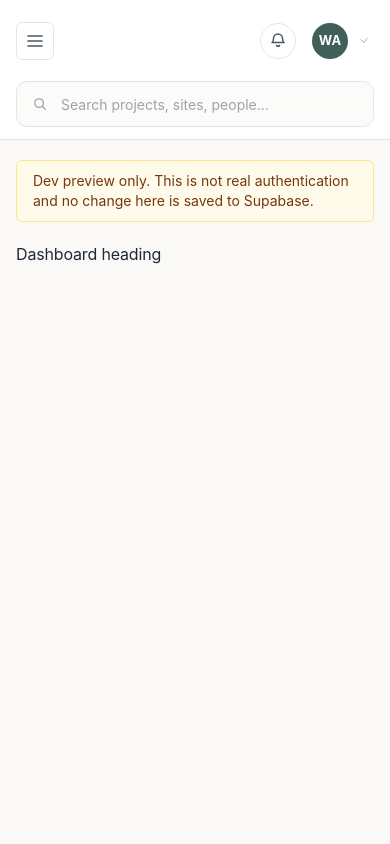
Test: Operating-model mobile drawer › expands and collapses a group in place without closing the drawer
The image size is (390, 844).
What coordinates should you click on to do the following:
click the button named "Open navigation menu"
I would click on:
 (35, 40)
Its box is top-left (16, 22), bottom-right (54, 60).
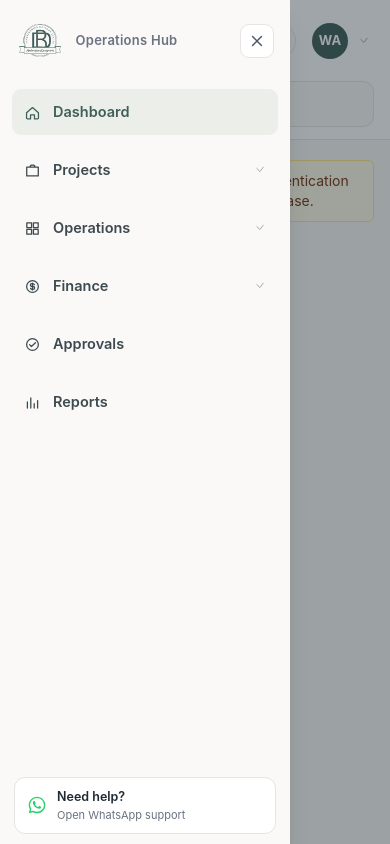
What coordinates should you click on to do the following:
click the button "Operations"
I would click on:
 (92, 228)
Its box is top-left (12, 205), bottom-right (278, 251).
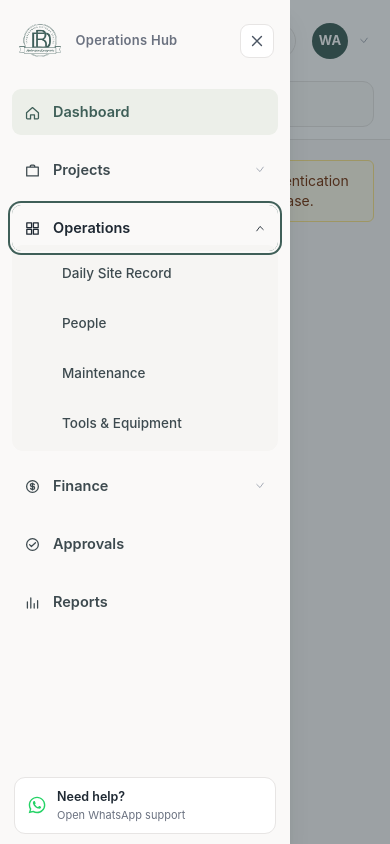
Check: the button "Operations" is expanded
Check: the link "People" is shown, box top-left (62, 315), bottom-right (106, 331)
What coordinates should you click on to do the following:
click the button "Operations"
I would click on:
 (92, 228)
Its box is top-left (12, 205), bottom-right (278, 251).
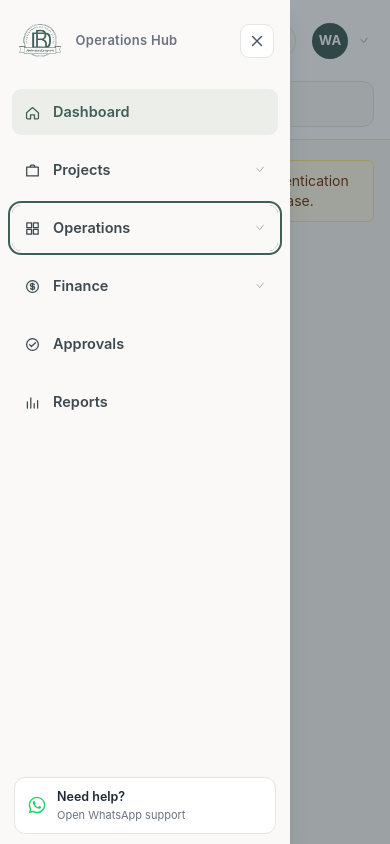
Check: the dialog named "Admin navigation" is shown
Check: the button "Operations" is collapsed, box top-left (12, 205), bottom-right (278, 251)
